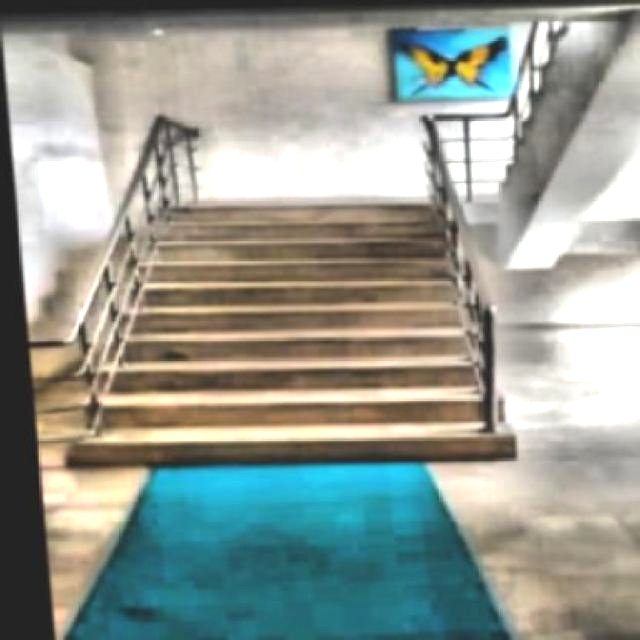stair: (46, 192, 506, 465)
